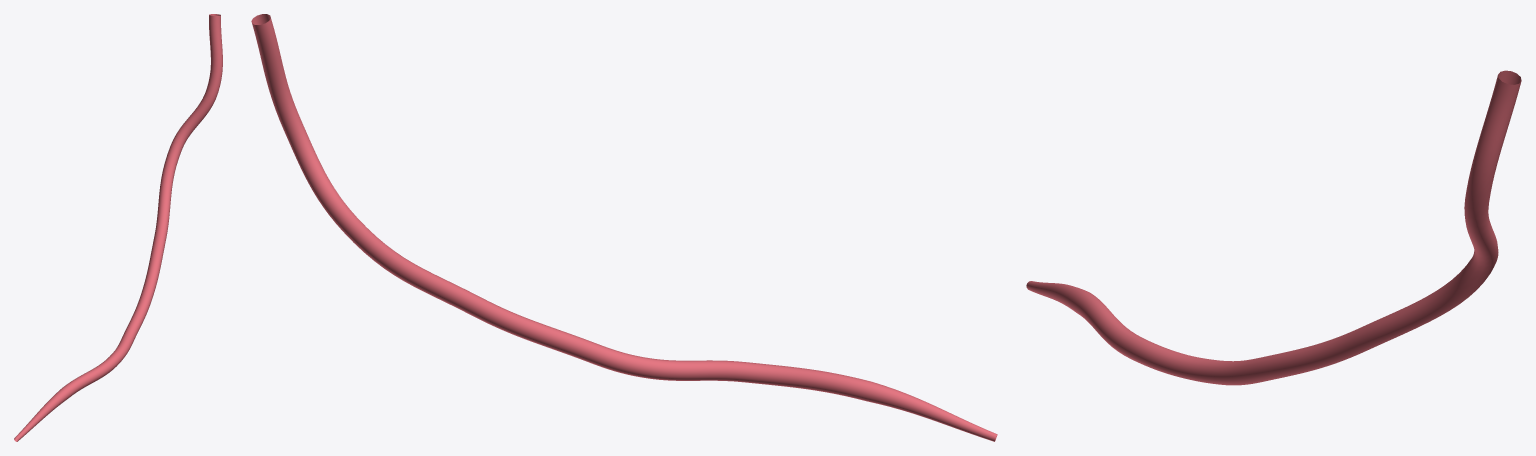
3 views of the same model, side by side, from view 1: azimuth 30°, elevation 25°; view 2: azimuth 150°, elevation 25°; view 3: azimuth 270°, elevation 25° (orthographic). The views are drawn at different scales.
Parts seen in each view (by area): view 1: ZA_5dc2dde115989765; view 2: ZA_5dc2dde115989765; view 3: ZA_5dc2dde115989765.
Part boxes in pixels (x1,y1,x2,y2): ZA_5dc2dde115989765: (14,14,222,441); ZA_5dc2dde115989765: (251,14,997,441); ZA_5dc2dde115989765: (1026,70,1521,385).
Size of the model in its own units: 0.0308 by 0.0238 by 0.0203.
